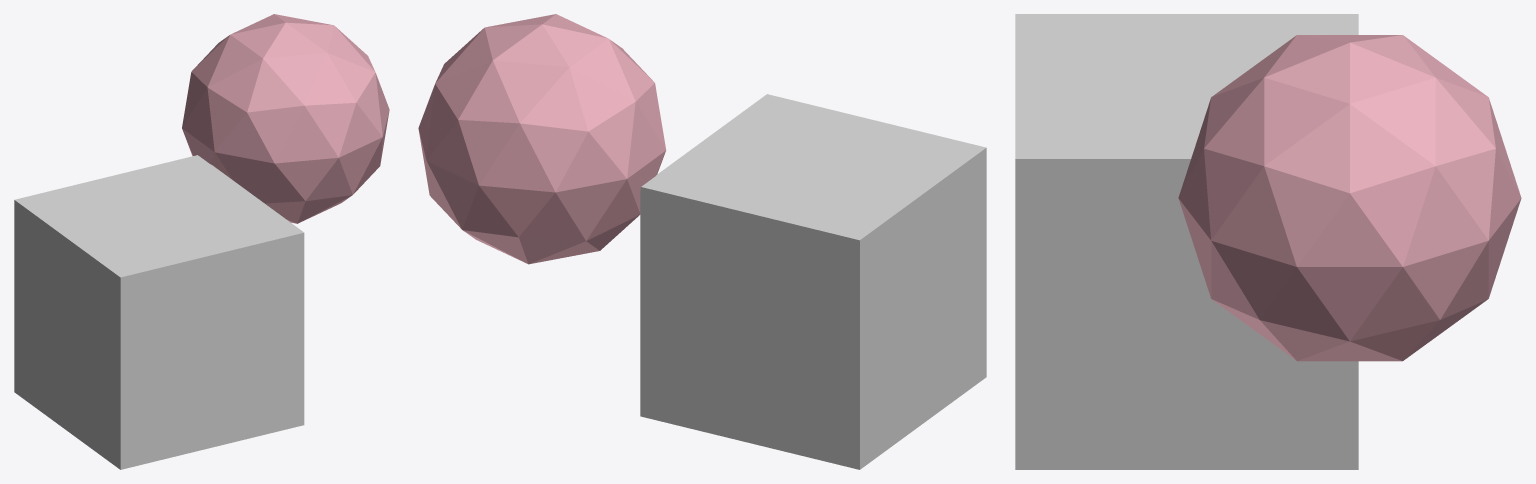
3 renders of one model, left to right at view 1: azimuth 30°, elevation 25°; view 2: azimuth 150°, elevation 25°; view 3: azimuth 270°, elevation 25°, orthographic. The views are drawn at different scales.
Visible parts, largest first — view 1: cube, cube2; view 2: cube, cube2; view 3: cube, cube2.
Part boxes in pixels (x1,y1,x2,y2): cube: [14, 155, 304, 469]; cube2: [182, 14, 389, 223]; cube: [640, 94, 986, 469]; cube2: [418, 14, 666, 264]; cube: [1015, 14, 1358, 469]; cube2: [1178, 35, 1521, 361].
Size of what is drawn, in the model's own units: 3.87 by 3.18 by 2.95.
